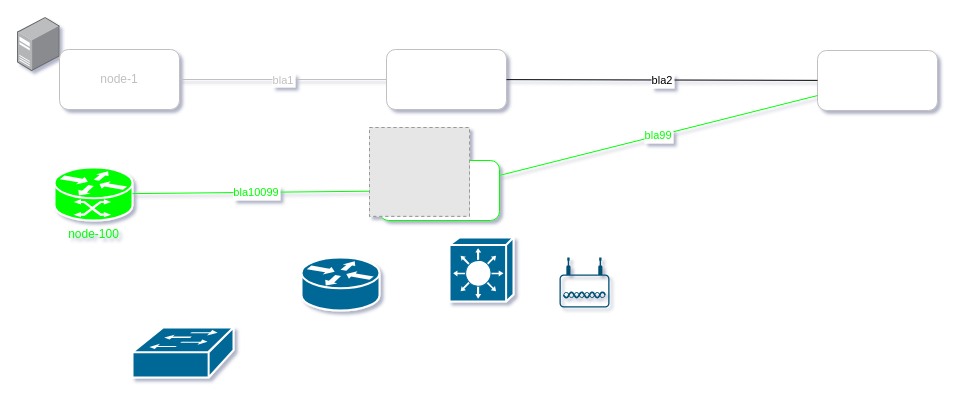
The diagram is 961 pixels wide and 401 high, and some of its shapes have lost their labels. Grey dashed boxes stand in for pictures. The shapes that lost their labels are listed below. From the top down, each one's centre as x and y in pixels, then its label:
[446,79]: node-2
[877,80]: node-3
